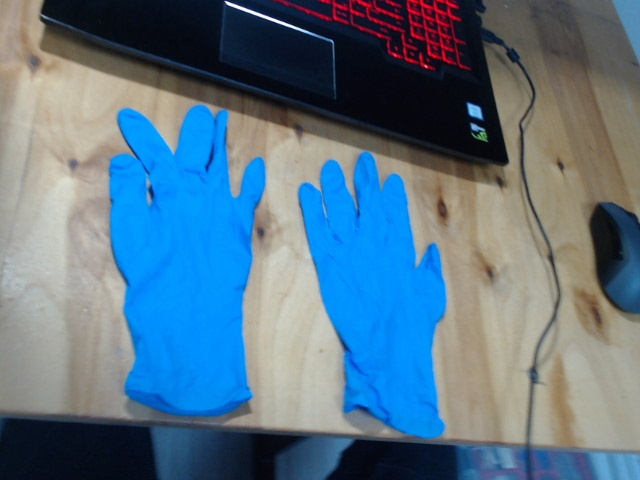medical_glove: (109, 105, 267, 418), (299, 152, 447, 439)
